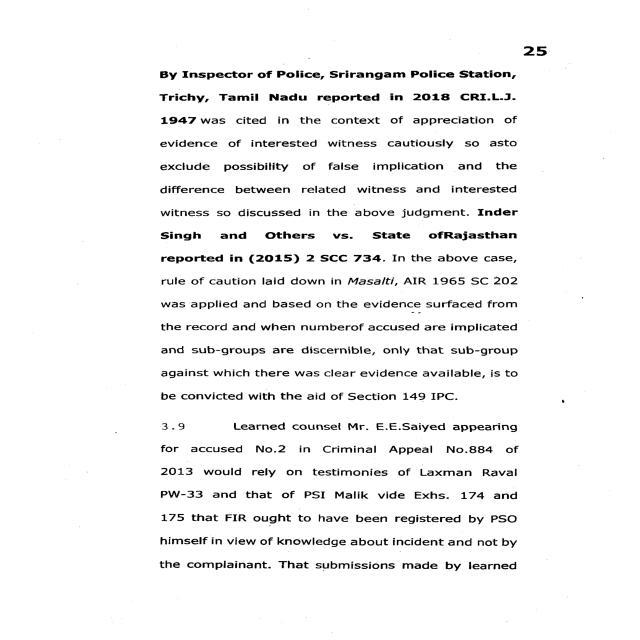page-number: (420, 0, 638, 62)
